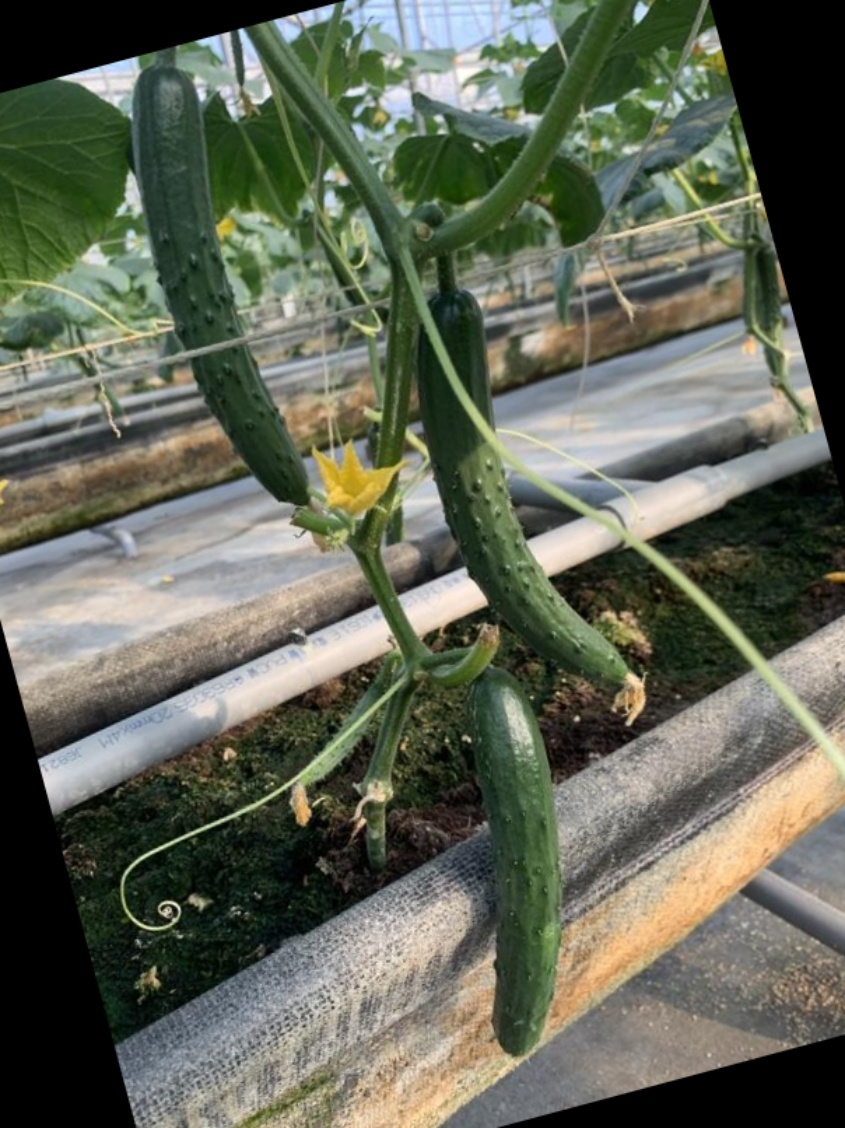mature: (470, 662, 567, 1062)
